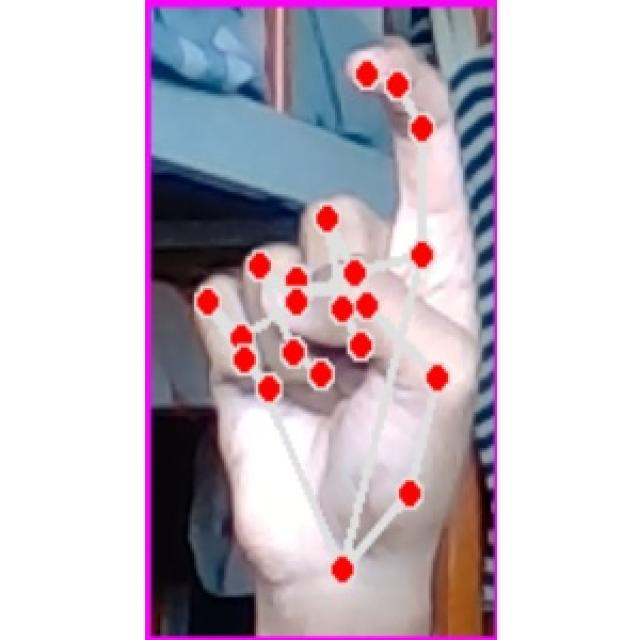X: (188, 30, 482, 592)
